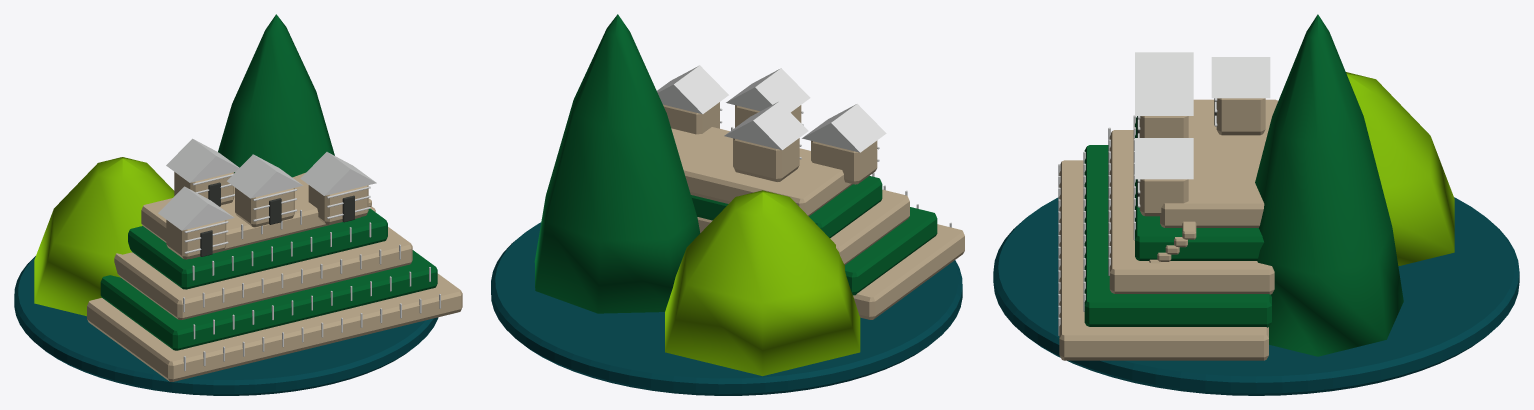
File: machu-picchu.glb
The picture shows the model from 3 angles, left to right: view 1: azimuth 30°, elevation 25°; view 2: azimuth 150°, elevation 25°; view 3: azimuth 270°, elevation 25°; orthographic projection. The views are drawn at different scales.
Visible parts, largest first — view 1: body, pedestal; view 2: body, pedestal; view 3: body, pedestal.
Part boxes in pixels (x1,y1,x2,y2): body: (34,14,462,381); pedestal: (14,256,438,395); body: (534,14,964,376); pedestal: (491,222,962,395); body: (1058,14,1454,360); pedestal: (993,197,1519,395).
Size of the model in its own units: 4.4 by 2.93 by 4.4.
